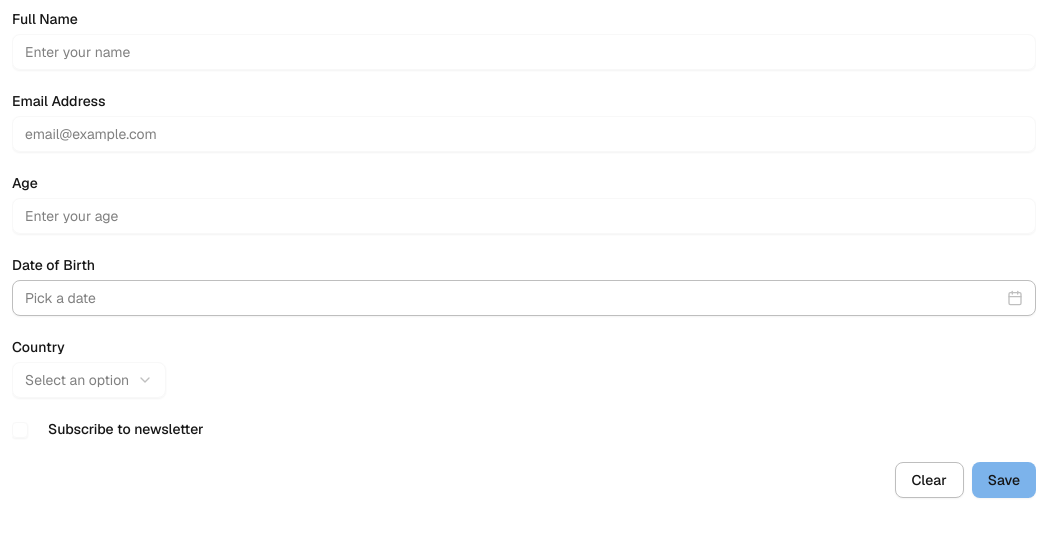
Test: FormBuilder Component › validates inputs according to rules
Fill name with just one character
In the field labelled "Full Name": (524, 52) [12, 34, 1036, 70], type "A"
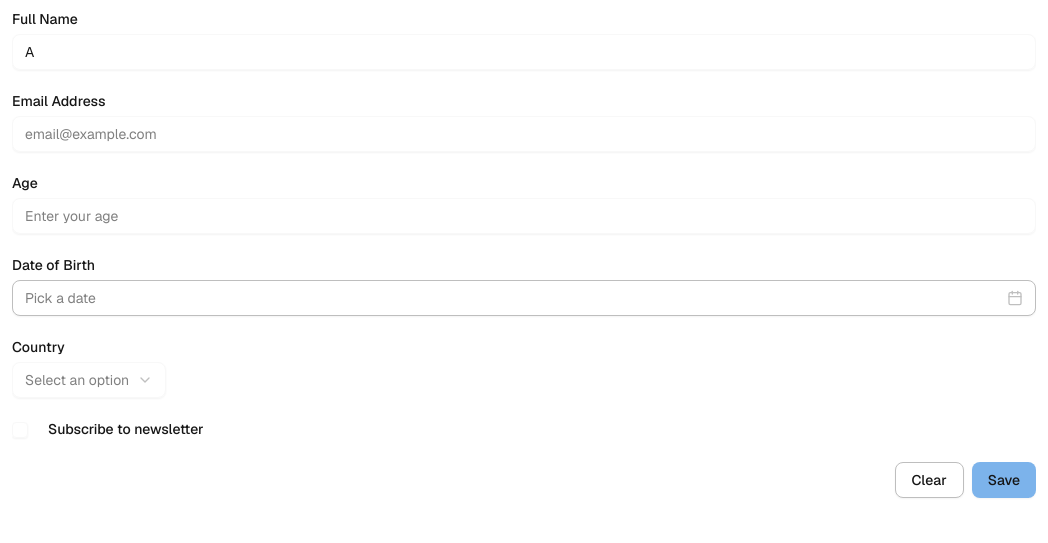
Leave the field labelled "Full Name", box [12, 34, 1036, 70]
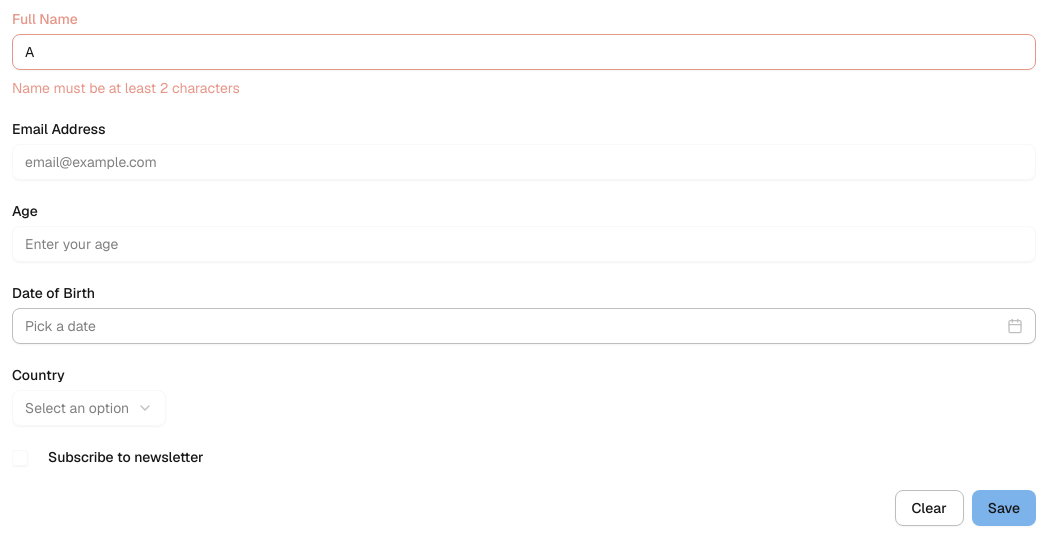
Now the text "Name must be at least 2 characters" is shown, box [12, 79, 240, 97]
Fix the name
Replace the text in the field labelled "Full Name" with "Alice": (524, 52) [12, 34, 1036, 70]
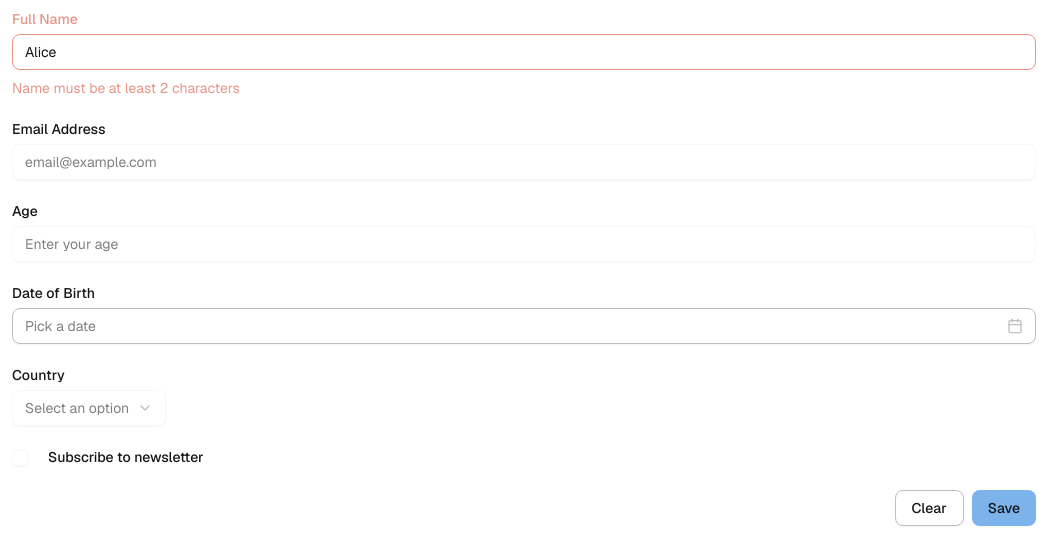
Leave the field labelled "Full Name", box [12, 34, 1036, 70]
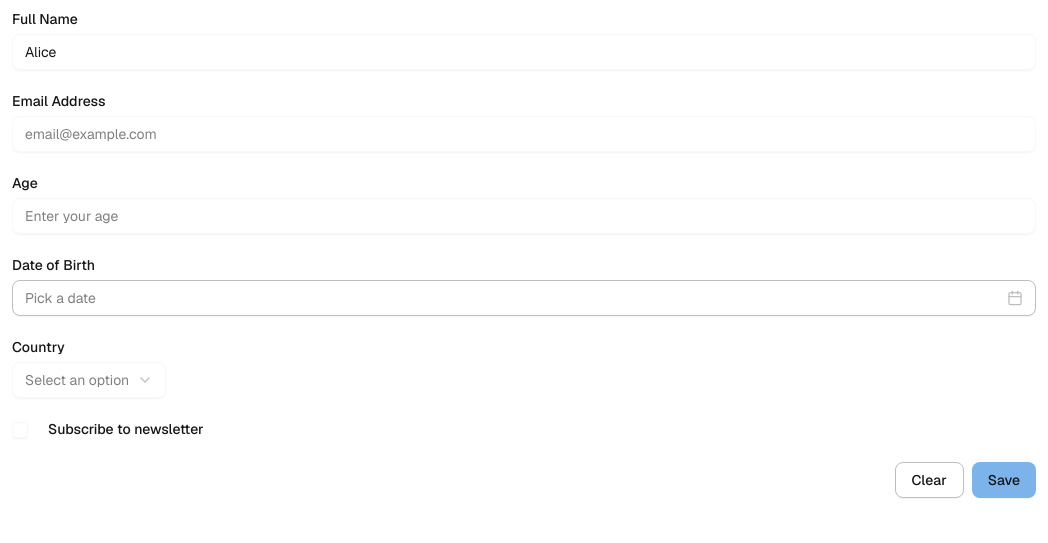
Now the text "Name must be at least 2 characters" is gone
